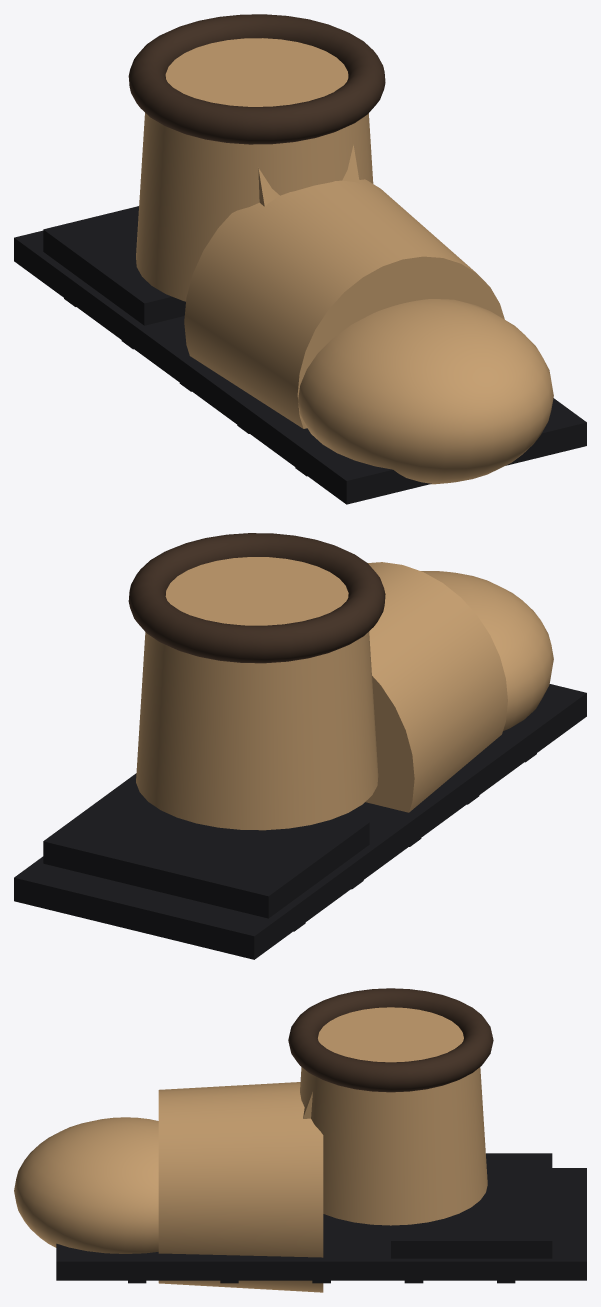
File: boot.glb
3 renders of one model, top to bottom at view 1: azimuth 30°, elevation 25°; view 2: azimuth 150°, elevation 25°; view 3: azimuth 270°, elevation 25°, orthographic. The views are drawn at different scales.
Parts seen in each view (by area): view 1: Upper_BootVamp, Upper_ReinforcedToeBox, Upper_HighAnkleShaft, Outsole_CommandoBase, Upper_PaddedAnkleCollar, Outsole_TrekkerHeel, Upper_GussetedTongue; view 2: Upper_HighAnkleShaft, Upper_BootVamp, Outsole_CommandoBase, Outsole_TrekkerHeel, Upper_PaddedAnkleCollar, Upper_ReinforcedToeBox; view 3: Upper_HighAnkleShaft, Upper_BootVamp, Outsole_CommandoBase, Upper_ReinforcedToeBox, Outsole_TrekkerHeel, Upper_PaddedAnkleCollar.
Part boxes in pixels (<box>): Upper_BootVamp: <box>184,179,504,428</box>; Upper_ReinforcedToeBox: <box>298,299,553,484</box>; Upper_HighAnkleShaft: <box>136,38,373,301</box>; Outsole_CommandoBase: <box>14,230,586,504</box>; Upper_PaddedAnkleCollar: <box>128,14,385,144</box>; Outsole_TrekkerHeel: <box>43,206,185,325</box>; Upper_GussetedTongue: <box>258,145,359,206</box>; Upper_HighAnkleShaft: <box>136,557,378,830</box>; Upper_BootVamp: <box>365,562,507,812</box>; Outsole_CommandoBase: <box>14,684,586,959</box>; Outsole_TrekkerHeel: <box>43,773,369,918</box>; Upper_PaddedAnkleCollar: <box>128,533,385,663</box>; Upper_ReinforcedToeBox: <box>421,571,553,730</box>; Upper_HighAnkleShaft: <box>300,1007,487,1225</box>; Upper_BootVamp: <box>158,1082,323,1292</box>; Outsole_CommandoBase: <box>56,1168,586,1280</box>; Upper_ReinforcedToeBox: <box>14,1117,158,1253</box>; Outsole_TrekkerHeel: <box>391,1153,552,1258</box>; Upper_PaddedAnkleCollar: <box>288,988,493,1092</box>.
Size of the model in its own units: 0.96 by 1.23 by 2.48.
